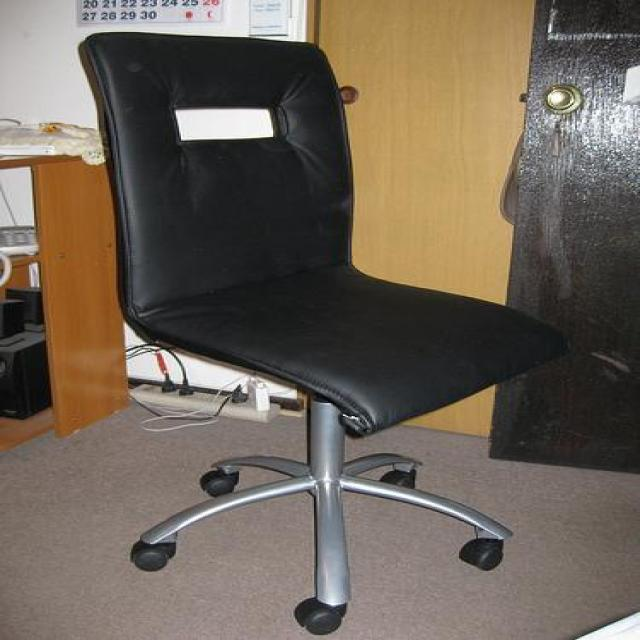chair: (75, 29, 570, 635)
